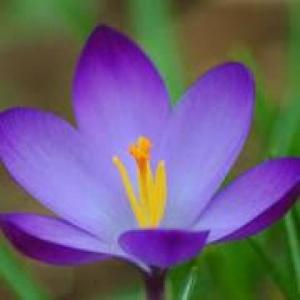Saffron: (2, 23, 299, 300)
